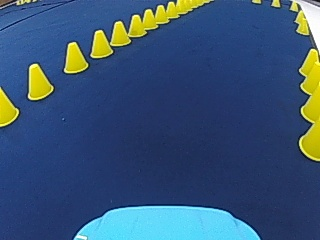cone: (26, 61, 53, 100), (298, 116, 319, 159), (63, 40, 88, 73), (0, 86, 19, 125), (299, 85, 319, 122), (89, 29, 113, 58), (299, 60, 319, 93), (298, 47, 318, 75), (110, 20, 130, 45), (126, 13, 145, 37), (141, 8, 157, 29), (294, 11, 308, 33), (153, 4, 168, 23), (165, 1, 177, 18)
